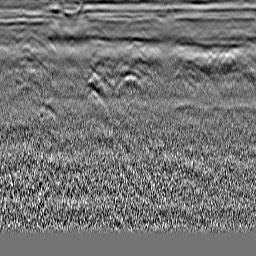cavity: (115, 67, 142, 93)
